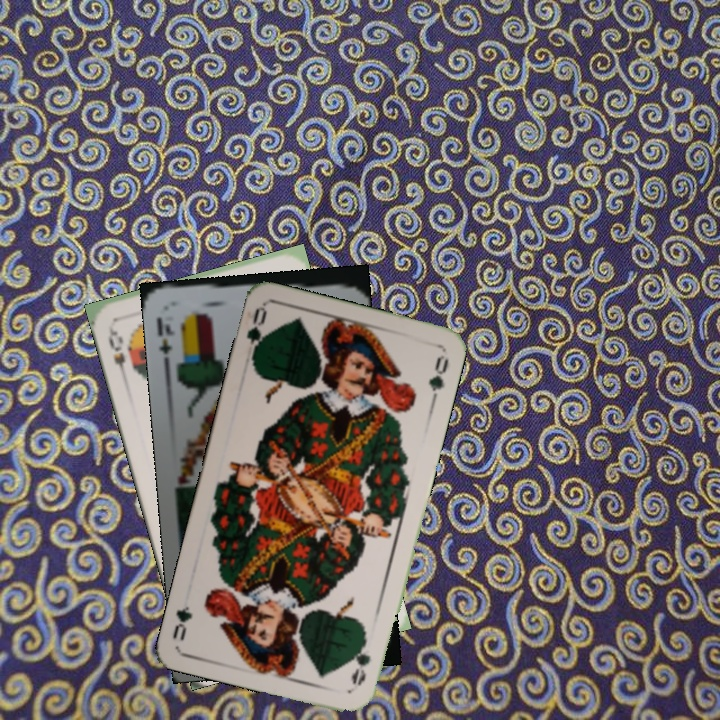EK: (152, 313, 177, 366)
GO: (242, 304, 271, 364), (347, 630, 373, 688)
SO: (104, 323, 129, 381)
